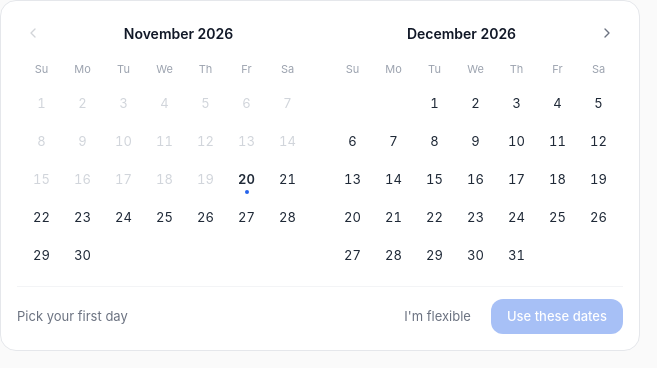
Test: DateRangeCalendar › past days cannot be picked; a last day before the first starts over
Later steps or results of the test are not shown.
Expected: the 1st button "19" is disabled, [188,162,224,198]
Click the 2nd button "10" at (516, 142), box [498,124,534,160]
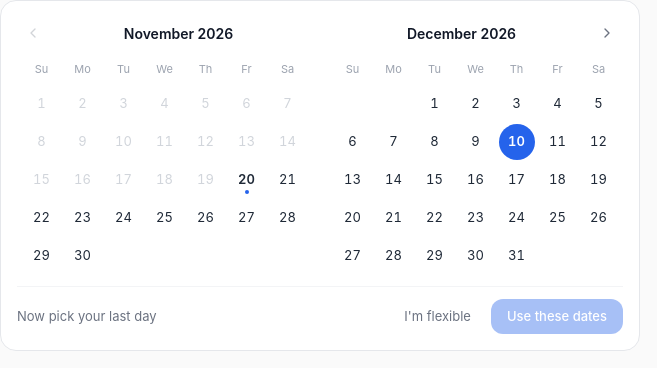
Click the 2nd button "5" at (598, 104), box [580,86,616,122]
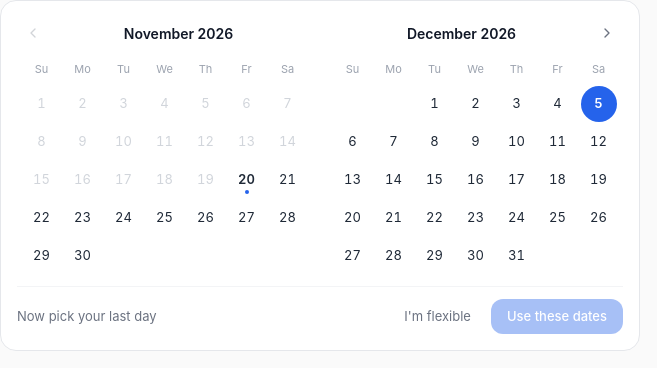
Expected: the text with test id "date-range-summary" reads "Now pick your last day", [17,308,157,324]
Click the 2nd button "9" at (476, 142), box [458,124,494,160]
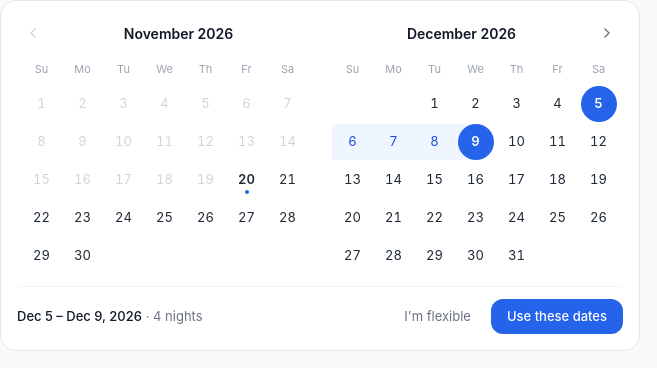
Expected: the element with test id "date-range-summary" reads "Dec 5 – Dec 9, 2026 · 4 nights", [17,306,203,326]
